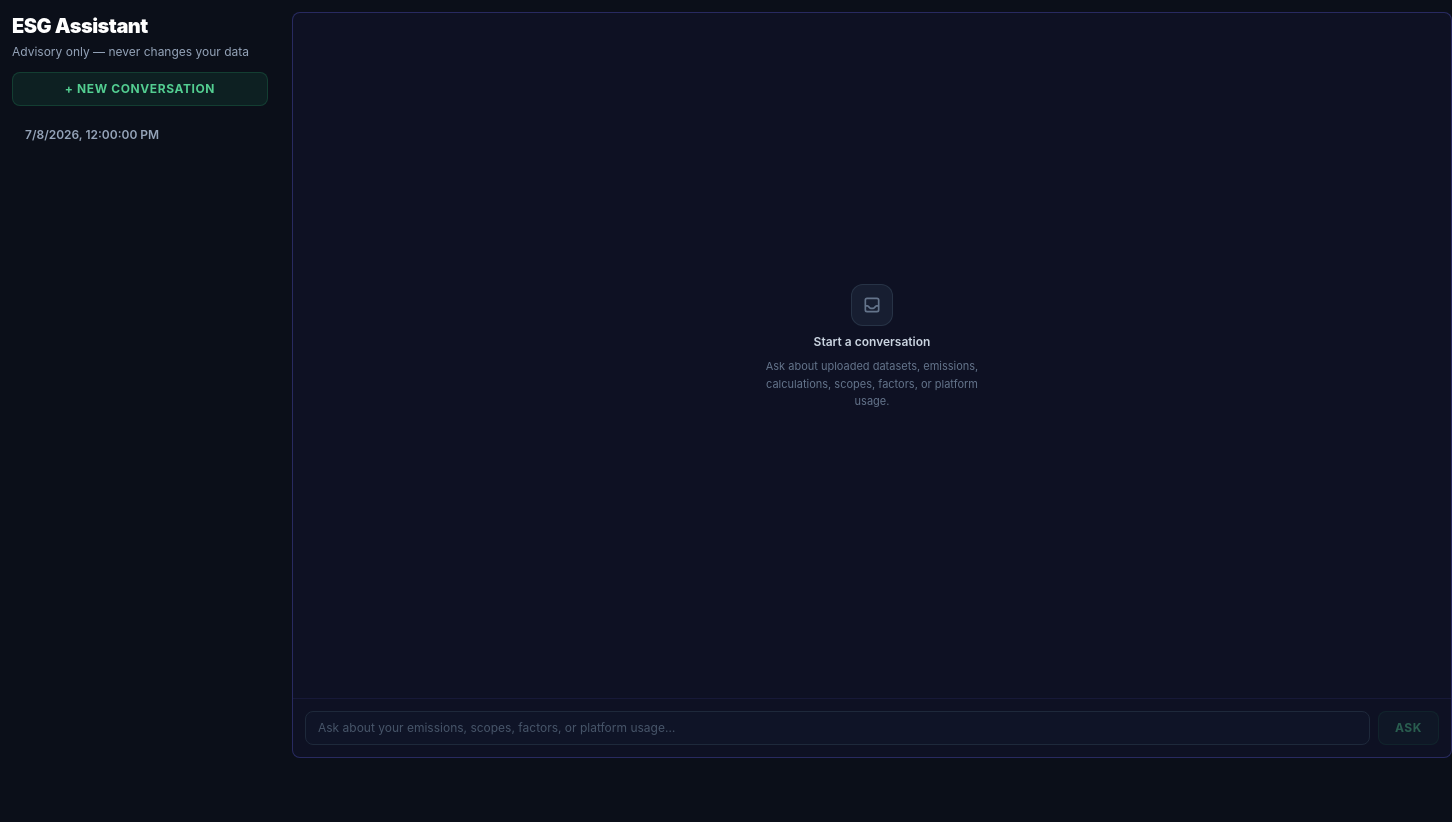
Test: ESGAssistantPage › selecting an existing conversation from the sidebar fetches its real history
Click the list item "7/8/2026, 12:00:00 PM": click(140, 135) [12,118,268,152]
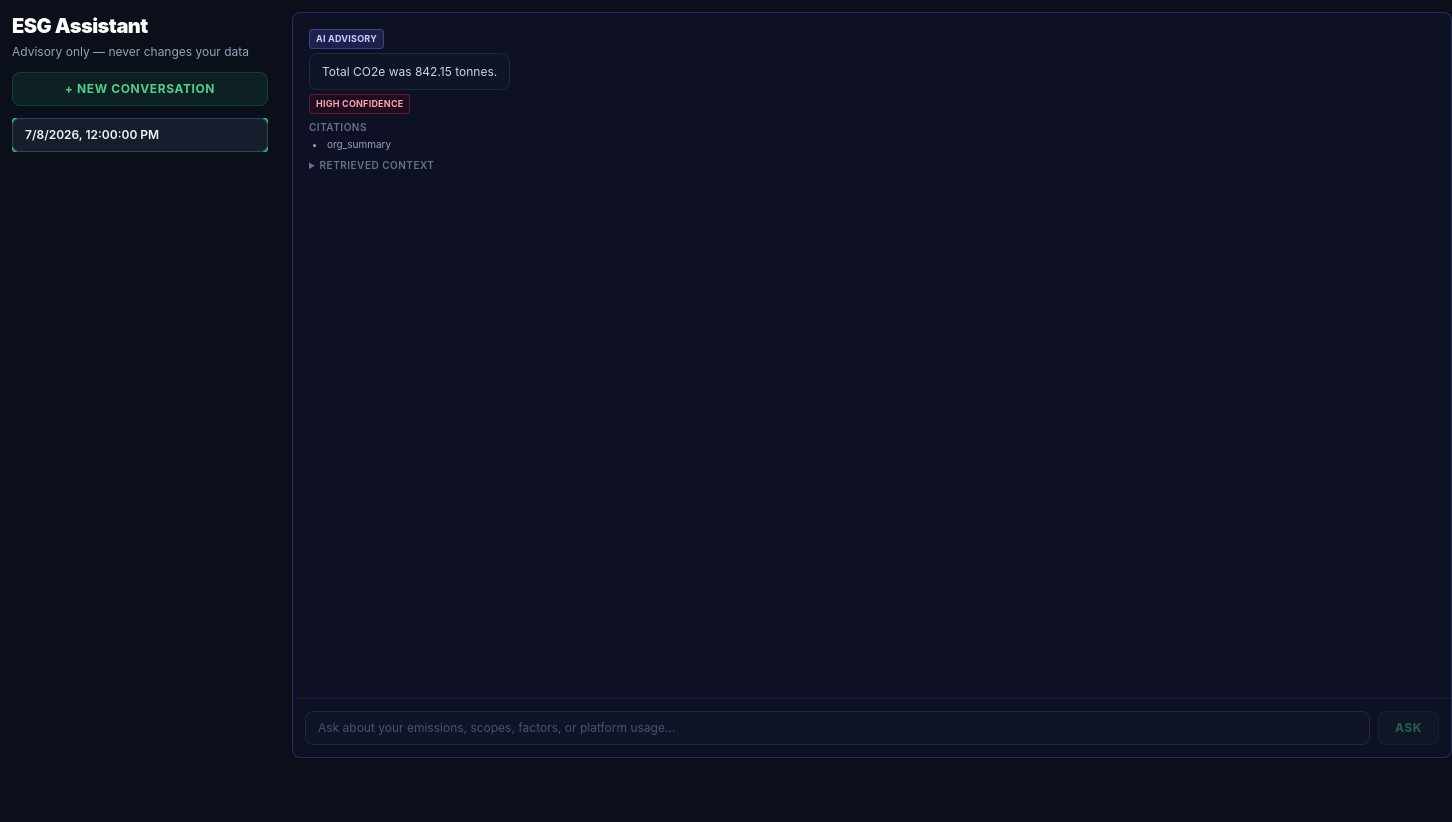
Result: the text "Total CO2e was 842.15 tonnes." is shown at [309,52,510,90]
